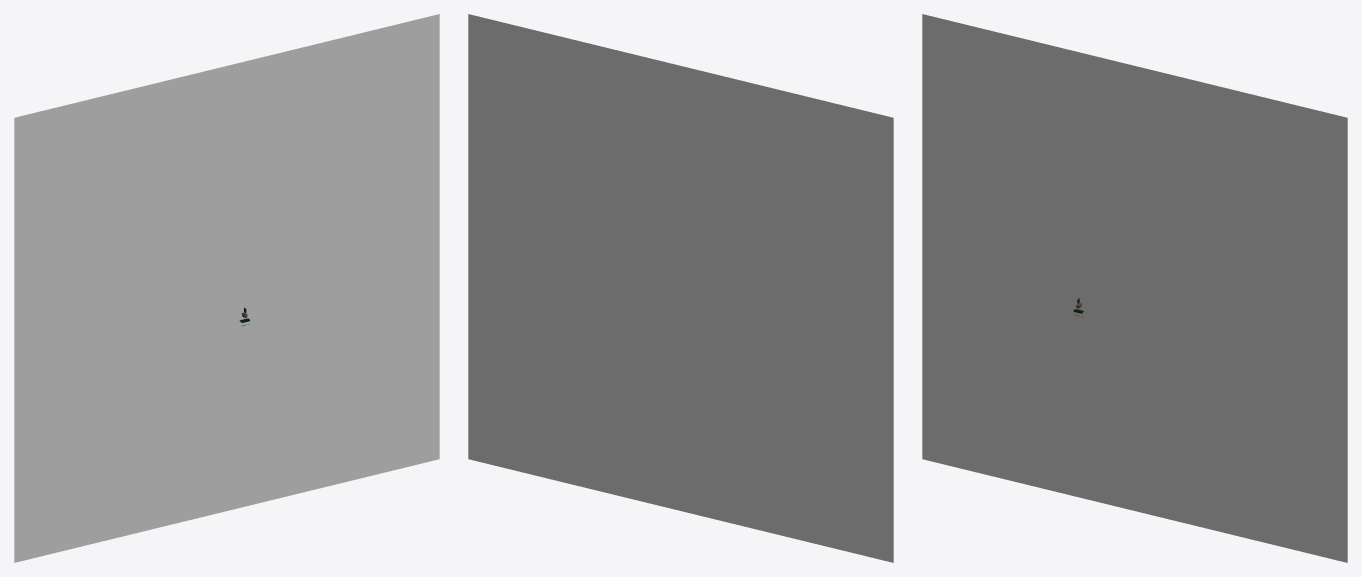
Rendered from Cenario 1 caverna2.glb.
The picture shows the model from 3 angles, left to right: view 1: azimuth 30°, elevation 25°; view 2: azimuth 150°, elevation 25°; view 3: azimuth 330°, elevation 25°; orthographic projection.
Visible parts, largest first — view 1: Plane.006; view 2: Plane.006; view 3: Plane.006.
Part boxes in pixels (<box>): Plane.006: <box>14,14,439,562</box>; Plane.006: <box>468,14,893,562</box>; Plane.006: <box>922,14,1347,562</box>.
Size of the model in its own units: 301 by 301 by 47.01.
Materials: 9 (2 with a texture image).
